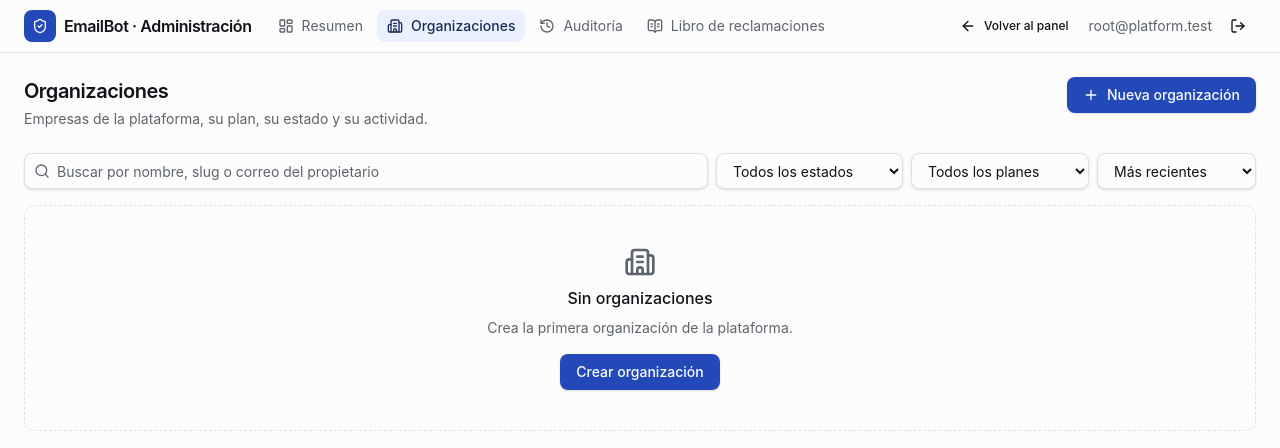
it: organizations table › empty and filtered-empty states
Expected: the text "Sin organizaciones" is shown, [568, 286, 713, 310]
Select "Cancelada" in the dropdown named "Estado" at [810, 171], box [716, 153, 903, 189]
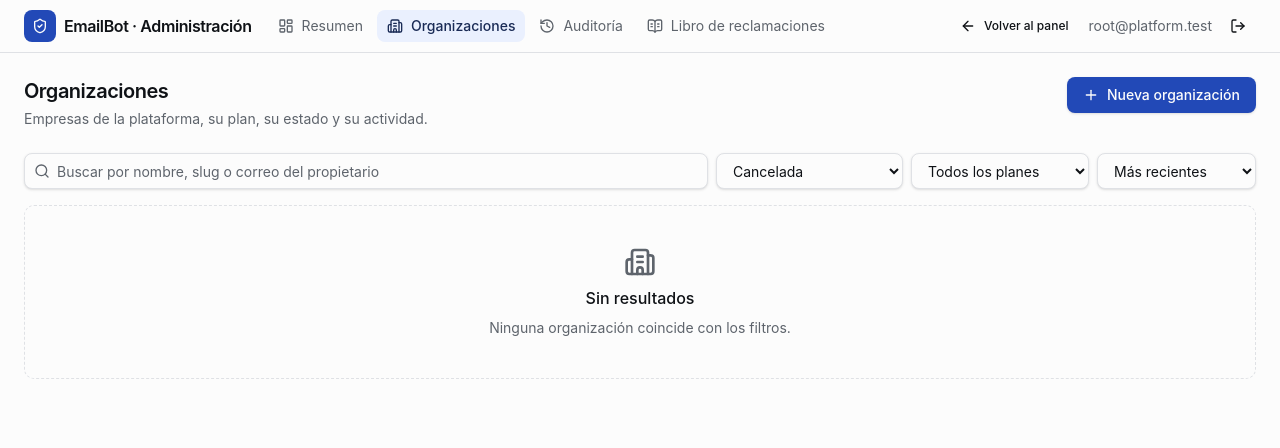
Expected: the text "Sin resultados" is shown, [586, 286, 694, 310]
